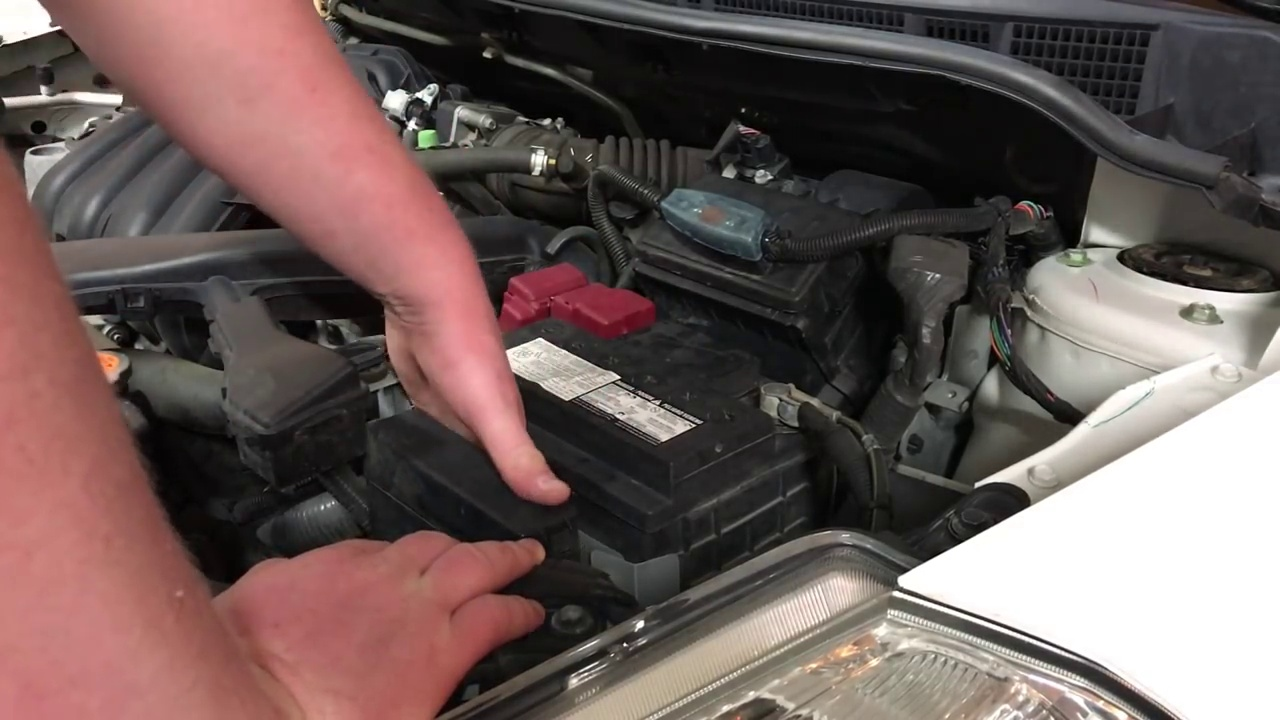battery: (442, 280, 831, 480)
neg_connected: (747, 375, 838, 441)
pos_connected: (491, 249, 661, 350)
